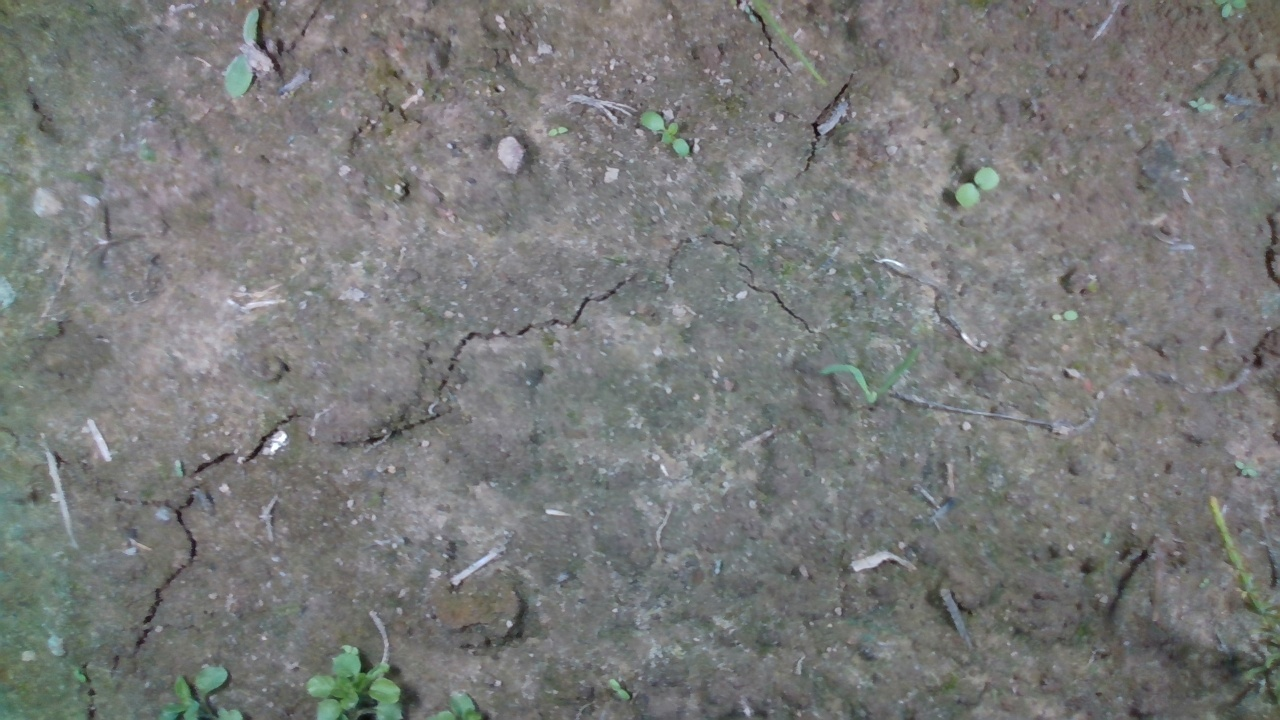weed: (949, 162, 1008, 210), (638, 109, 692, 156)
